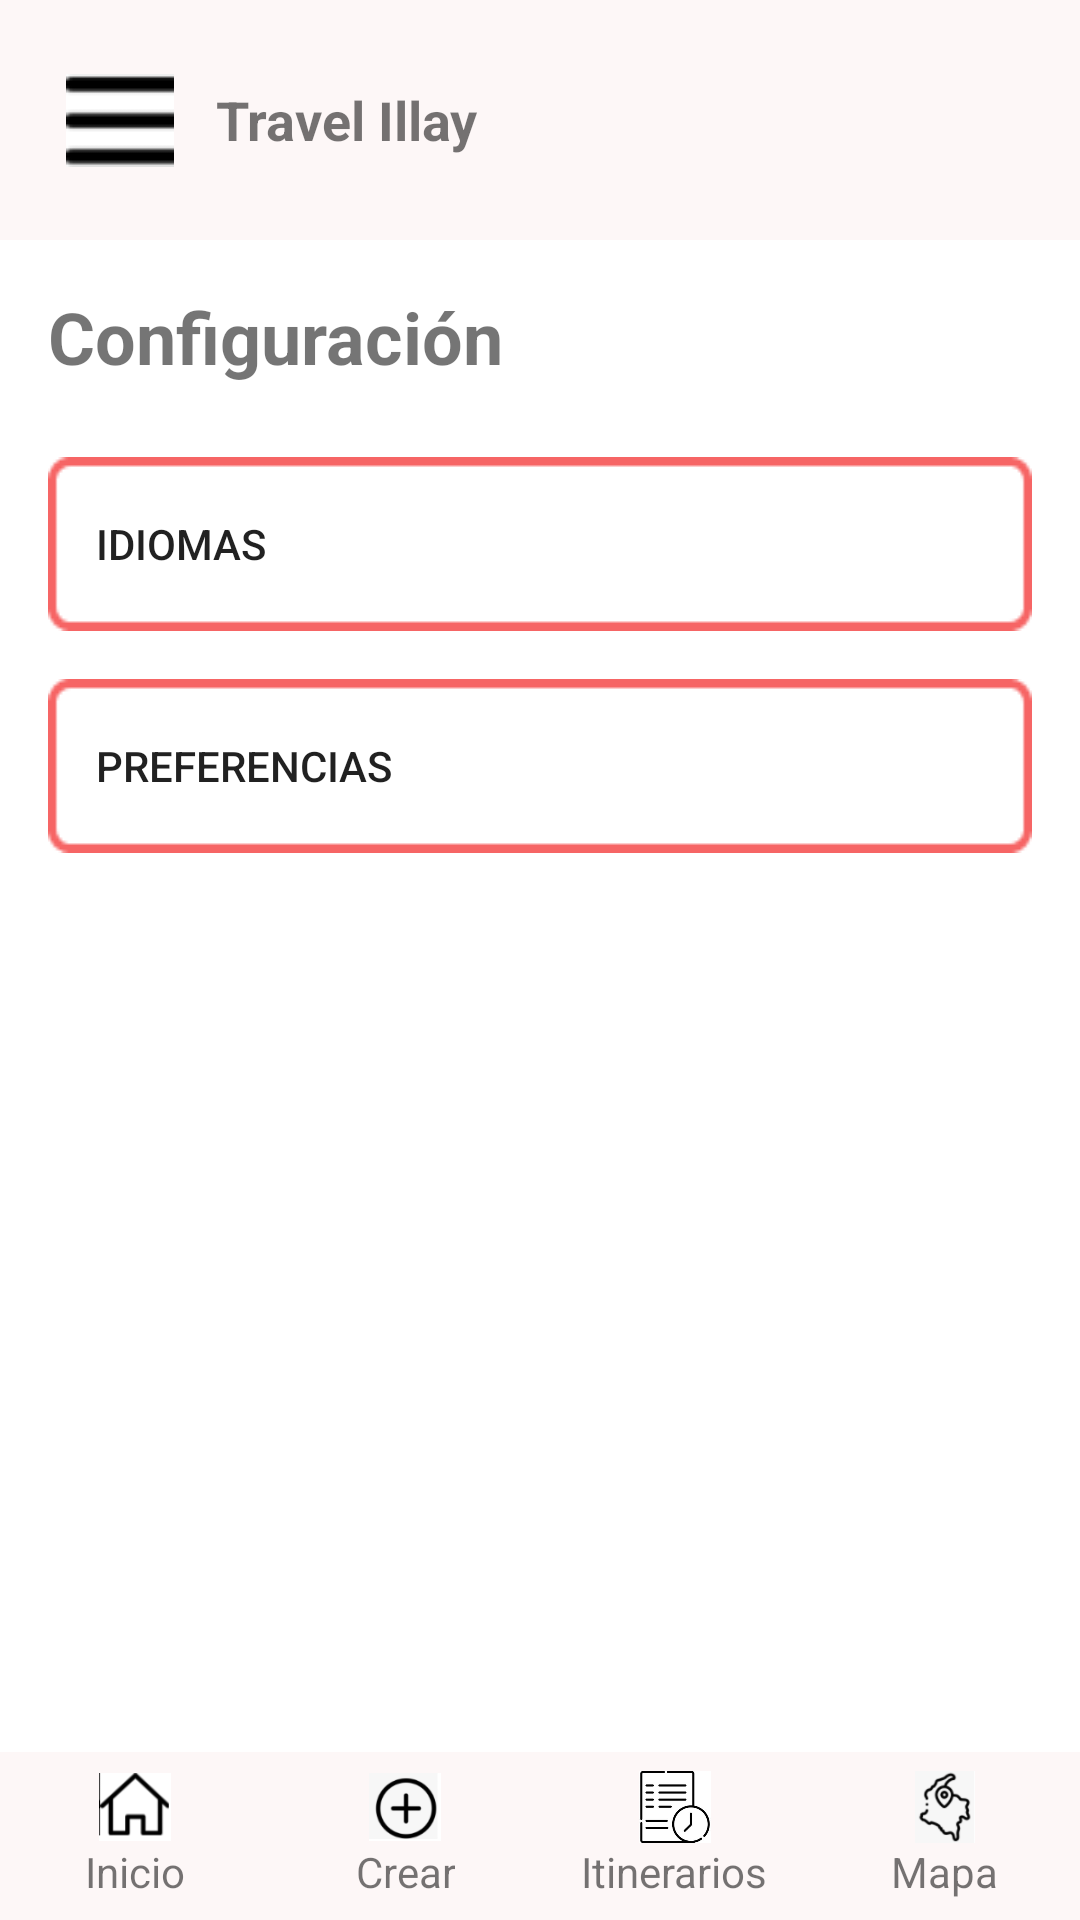

Named icons in this screenshot (1080 × 1920) and their bounding boxes, box(x1, y1, x2, y2):
Menú principal: box(66, 76, 174, 167)
